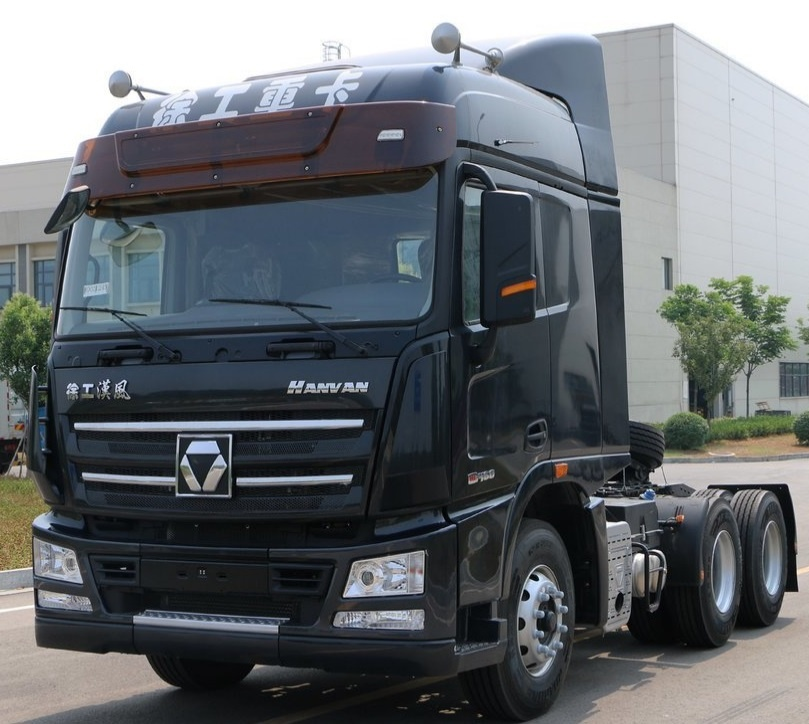heavy truck: (40, 44, 798, 697)
